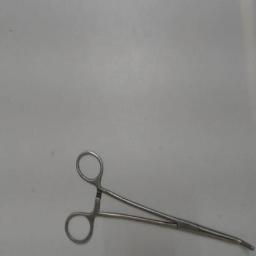Lahey Forceps: (62, 146, 254, 254)
